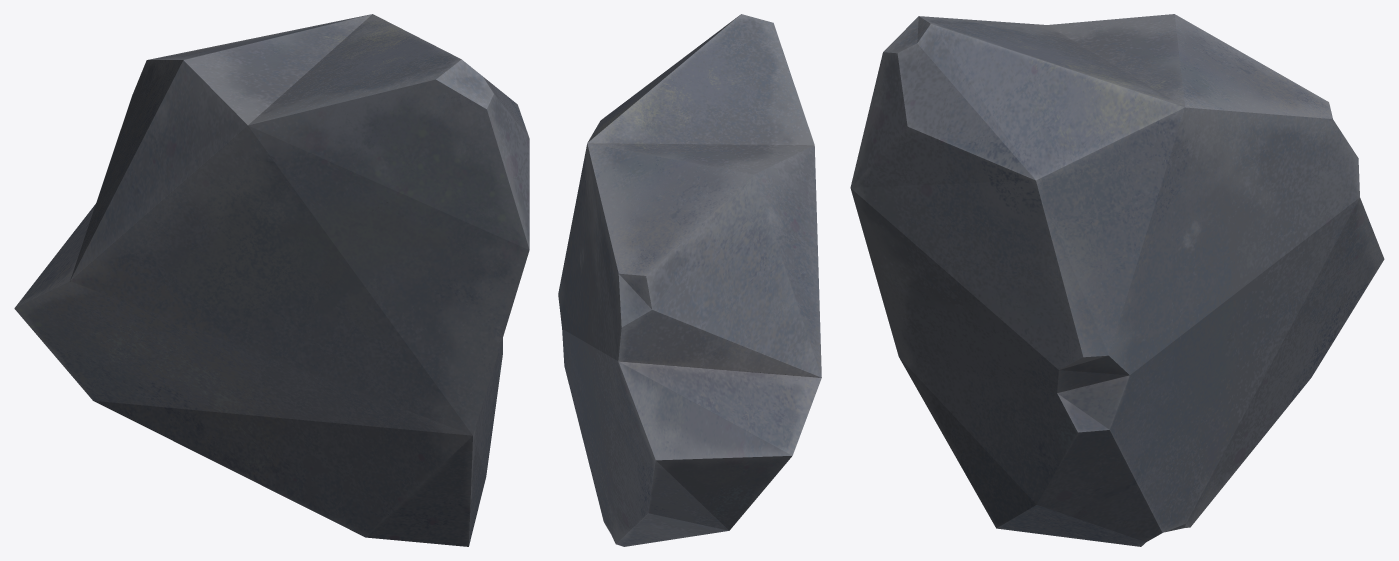
Rendered from stylized_rock_07.fbx.
3 renders of one model, left to right at view 1: azimuth 30°, elevation 25°; view 2: azimuth 150°, elevation 25°; view 3: azimuth 270°, elevation 25°, orthographic. The views are drawn at different scales.
Parts seen in each view (by area): view 1: stylized_rock_07; view 2: stylized_rock_07; view 3: stylized_rock_07.
Part boxes in pixels (x1,y1,x2,y2): stylized_rock_07: (14, 14, 529, 546); stylized_rock_07: (558, 14, 821, 546); stylized_rock_07: (850, 14, 1384, 546).
Size of the model in its own units: 54.29 by 73.74 by 70.04.
